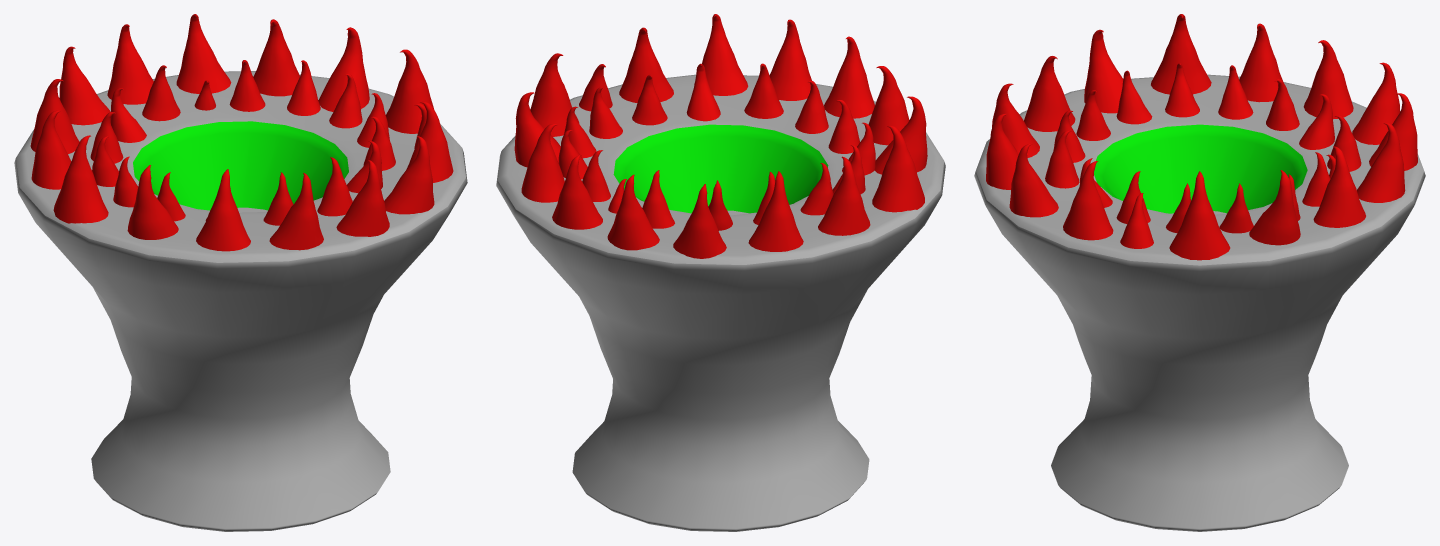
Rendered from praise_the_new_polyp.fbx.
3 renders of one model, left to right at view 1: azimuth 30°, elevation 25°; view 2: azimuth 150°, elevation 25°; view 3: azimuth 270°, elevation 25°, orthographic.
Visible parts, largest first — view 1: pCylinder1, coralTop (×4), coralTop4 (×4), coralTop5 (×4), coralTop3 (×4), coralTop2 (×4), coralTop1 (×4), coralTop6 (×3), coralTop7 (×2); view 2: pCylinder1, coralTop (×4), coralTop3 (×4), coralTop6 (×4), coralTop5 (×4), coralTop2 (×3), coralTop4 (×3), coralTop1 (×4), coralTop7 (×2), coralTop8; view 3: pCylinder1, coralTop (×4), coralTop2 (×4), coralTop6 (×4), coralTop1 (×3), coralTop5 (×3), coralTop4 (×4), coralTop3 (×3), coralTop7 (×2), coralTop8.
Part boxes in pixels (x1,y1,x2,y2): pCylinder1: [14, 71, 467, 531]; coralTop (×4): [53, 49, 433, 223]; coralTop4 (×4): [107, 24, 389, 236]; coralTop5 (×4): [59, 46, 434, 221]; coralTop3 (×4): [92, 14, 389, 250]; coralTop2 (×4): [90, 19, 395, 251]; coralTop1 (×4): [110, 27, 382, 239]; coralTop6 (×3): [30, 60, 453, 182]; coralTop7 (×2): [31, 110, 293, 225]; pCylinder1: [496, 74, 945, 531]; coralTop (×4): [530, 53, 924, 228]; coralTop3 (×4): [552, 36, 874, 229]; coralTop6 (×4): [582, 27, 859, 251]; coralTop5 (×4): [558, 14, 875, 258]; coralTop2 (×3): [521, 66, 909, 202]; coralTop4 (×3): [564, 19, 811, 250]; coralTop1 (×4): [514, 63, 927, 230]; coralTop7 (×2): [795, 80, 870, 235]; coralTop8: [579, 64, 612, 111]; pCylinder1: [974, 74, 1425, 531]; coralTop (×4): [1045, 14, 1361, 260]; coralTop2 (×4): [1024, 56, 1365, 227]; coralTop6 (×4): [1063, 40, 1353, 240]; coralTop1 (×3): [1084, 29, 1334, 245]; coralTop5 (×3): [1009, 62, 1400, 217]; coralTop4 (×4): [986, 63, 1417, 233]; coralTop3 (×3): [992, 65, 1405, 202]; coralTop7 (×2): [1053, 23, 1283, 162]; coralTop8: [1120, 193, 1153, 248].
Size of the model in its own units: 3.52 by 3.25 by 3.52.
